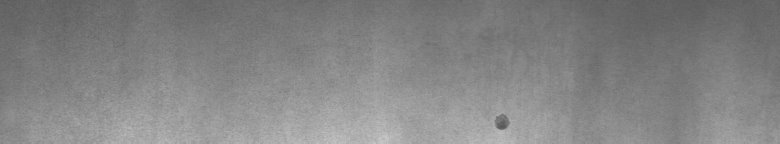fi: (491, 108, 513, 136)
